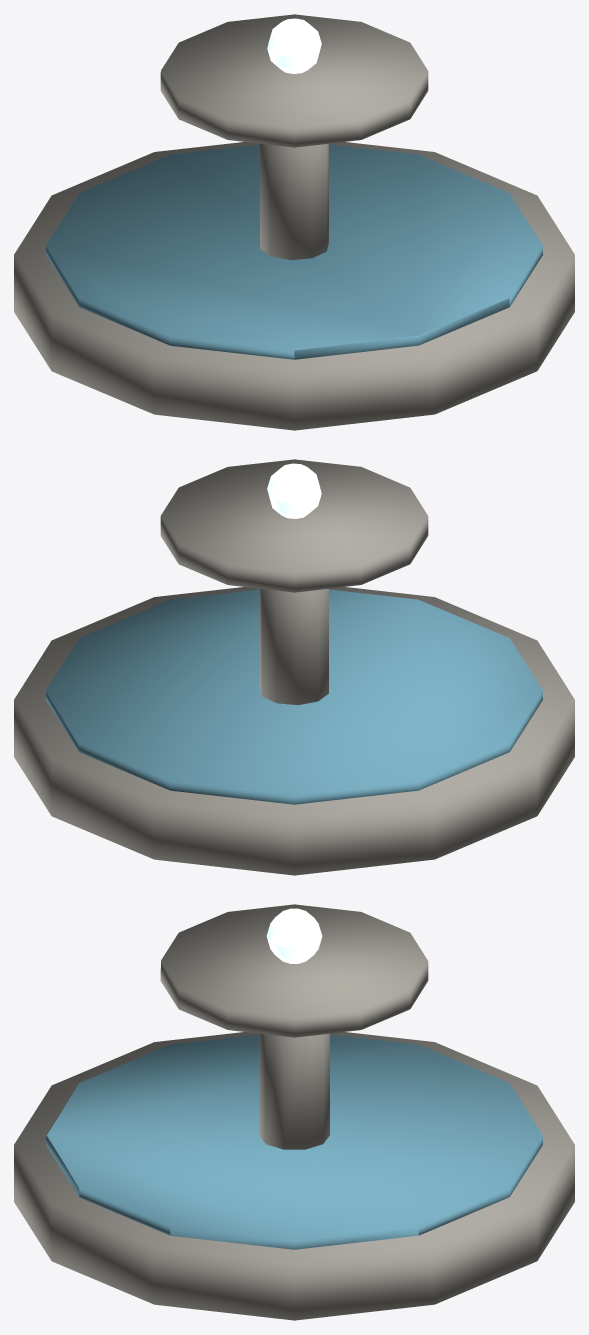
Rendered from SM_Kurpark_Fountain_LOD2.fbx.
The picture shows the model from 3 angles, top to bottom: view 1: azimuth 30°, elevation 25°; view 2: azimuth 150°, elevation 25°; view 3: azimuth 270°, elevation 25°; orthographic projection.
Visible parts, largest first — view 1: SM_Kurpark_Fountain_LOD2; view 2: SM_Kurpark_Fountain_LOD2; view 3: SM_Kurpark_Fountain_LOD2.
Part boxes in pixels (box(x1,y1,x2,y2)): SM_Kurpark_Fountain_LOD2: box(14, 14, 574, 430); SM_Kurpark_Fountain_LOD2: box(14, 459, 574, 875); SM_Kurpark_Fountain_LOD2: box(14, 904, 574, 1320).
Bounding box in the file's own units: 4.4 × 2.52 × 4.4.
